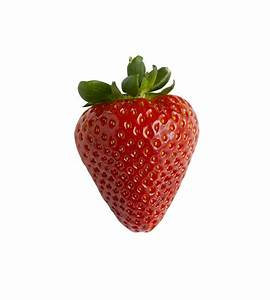Fresa: (73, 88, 204, 238)
